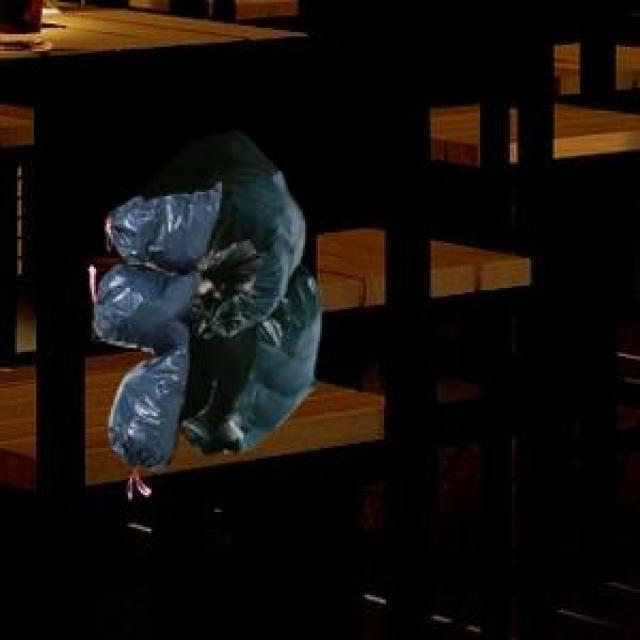miscellaneous trash: (115, 126, 316, 450), (90, 179, 218, 467)
